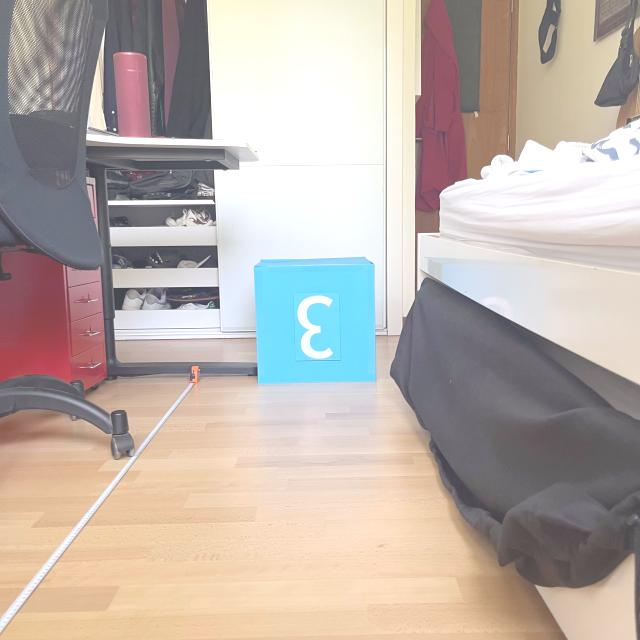box: (250, 252, 380, 386)
